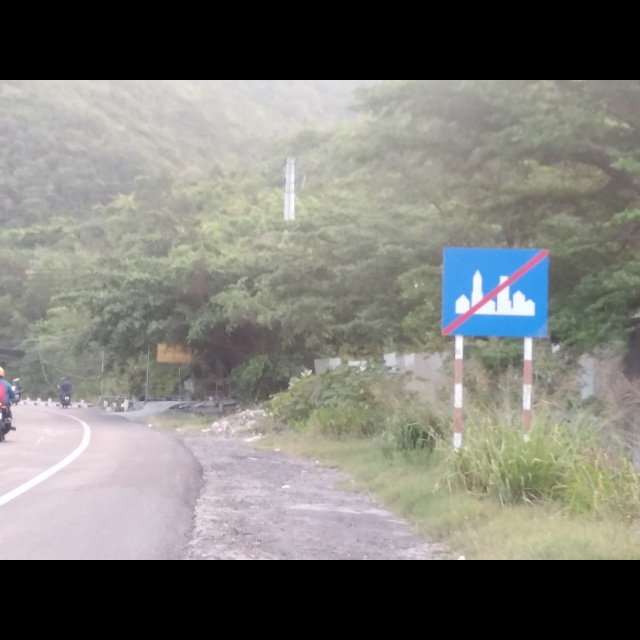Hết khu đông dân cư: (439, 243, 549, 338)
